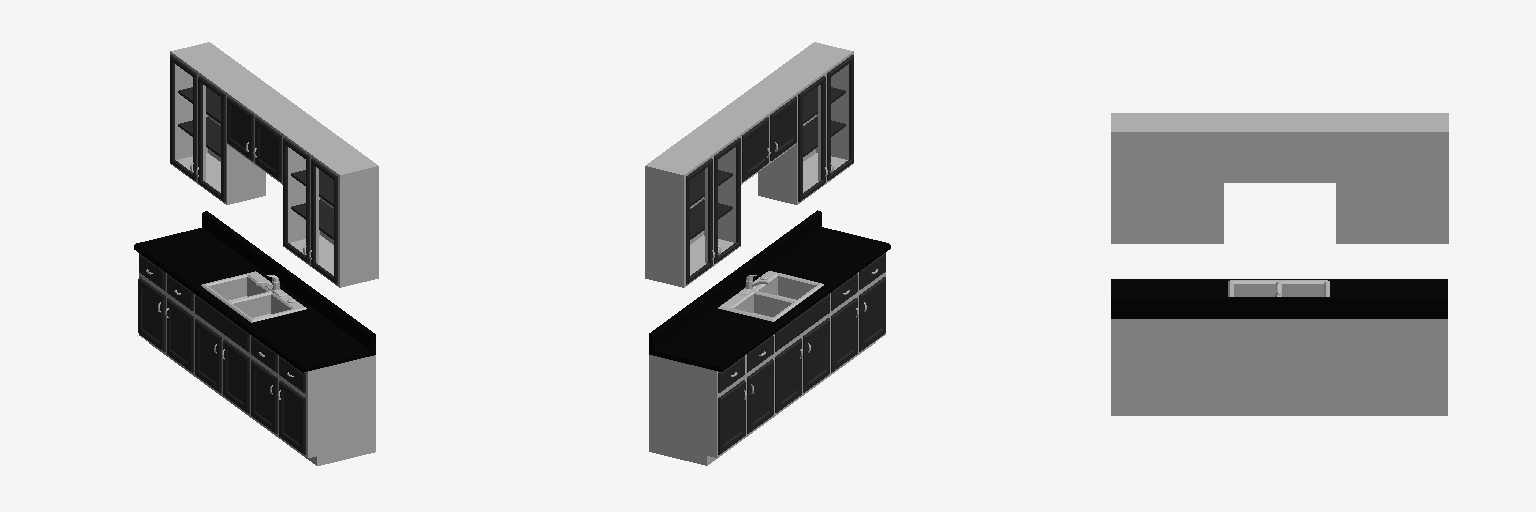
The model's file is Kitchen-sink-area.obj.
The picture shows the model from 3 angles: view 1: azimuth 30°, elevation 25°; view 2: azimuth 150°, elevation 25°; view 3: azimuth 270°, elevation 25°; orthographic projection.
Visible parts, largest first — view 1: mergedBlocks; view 2: mergedBlocks; view 3: mergedBlocks.
Boxes of the visible parts, x1=… form: mergedBlocks: x1=134, y1=42, x2=378, y2=465; mergedBlocks: x1=645, y1=42, x2=890, y2=465; mergedBlocks: x1=1111, y1=113, x2=1448, y2=415.
Size of the model in its own units: 0.7831 by 2.79 by 3.